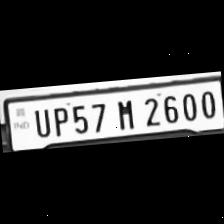0: (197, 87, 218, 120), (177, 90, 198, 122)
2: (138, 94, 162, 128)
5: (67, 100, 90, 136)
6: (158, 92, 180, 124)
7: (87, 99, 110, 134)
M: (110, 96, 139, 132)
P: (48, 104, 70, 138)
U: (28, 105, 52, 138)
